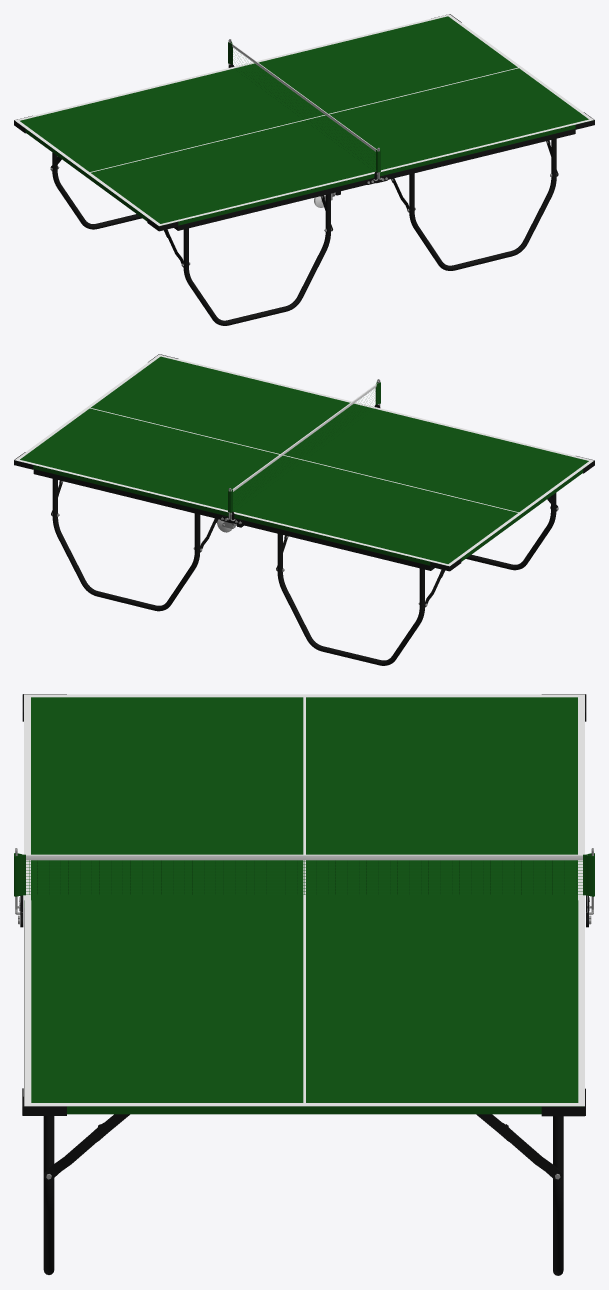
Rendered from Open Table.FBX.
3 views of the same model, one above another, from view 1: azimuth 30°, elevation 25°; view 2: azimuth 150°, elevation 25°; view 3: azimuth 270°, elevation 25° (orthographic). The views are drawn at different scales.
Visible parts, largest first — view 1: mitad mesa 1, mitad mesa 2, estrucrura 01, estructura 02, malla; view 2: mitad mesa 1, mitad mesa 2, estrucrura 01, estructura 02, malla; view 3: mitad mesa 2, mitad mesa 1, malla, estructura 02.
Part boxes in pixels (left/top/right/bottom): mitad mesa 1: left=15, top=67, right=374, bottom=226; mitad mesa 2: left=232, top=14, right=593, bottom=176; estrucrura 01: left=14, top=64, right=376, bottom=325; estructura 02: left=228, top=14, right=594, bottom=270; malla: left=228, top=41, right=380, bottom=172; mitad mesa 1: left=234, top=407, right=593, bottom=566; mitad mesa 2: left=15, top=354, right=376, bottom=516; estrucrura 01: left=217, top=405, right=594, bottom=665; estructura 02: left=14, top=354, right=380, bottom=611; malla: left=228, top=382, right=380, bottom=512; mitad mesa 2: left=24, top=900, right=584, bottom=1114; mitad mesa 1: left=24, top=694, right=584, bottom=907; malla: left=14, top=853, right=594, bottom=896; estructura 02: left=18, top=895, right=591, bottom=1275.
Bounding box in the file's own units: 2.75 × 0.9004 × 1.63.
